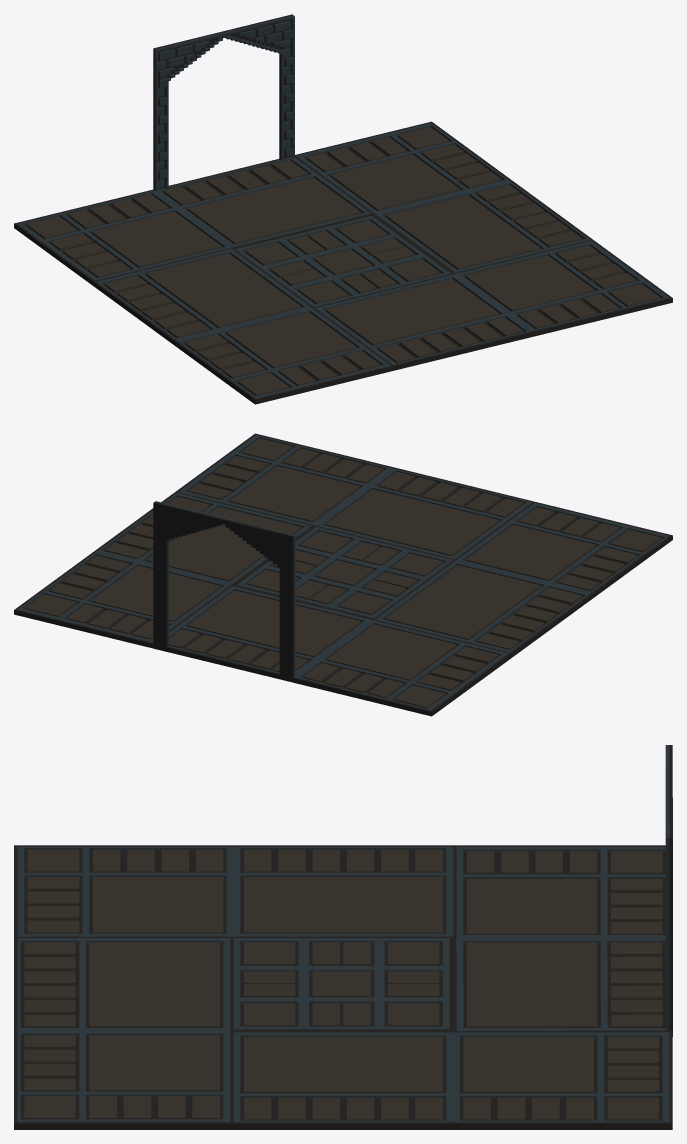
Rendered from corridor_point.glb.
The picture shows the model from 3 angles, top to bottom: view 1: azimuth 30°, elevation 25°; view 2: azimuth 150°, elevation 25°; view 3: azimuth 270°, elevation 25°; orthographic projection. The views are drawn at different scales.
Parts seen in each view (by area): view 1: ObjObject.009; view 2: ObjObject.009; view 3: ObjObject.009.
Part boxes in pixels (bbox=[...]): ObjObject.009: bbox=[14, 14, 672, 404]; ObjObject.009: bbox=[14, 433, 672, 716]; ObjObject.009: bbox=[14, 745, 672, 1129].
Size of the model in its own units: 19.2 by 6.4 by 19.21.
Materials: 9 (9 with a texture image).
